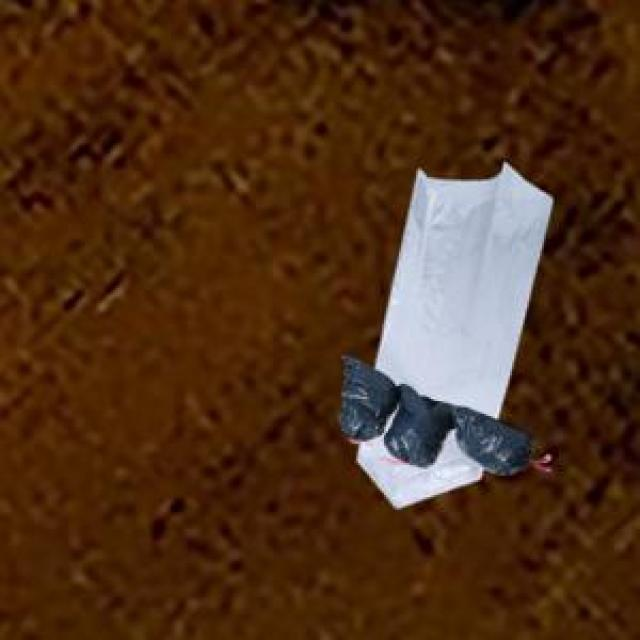miscellaneous trash: (335, 352, 531, 469)
